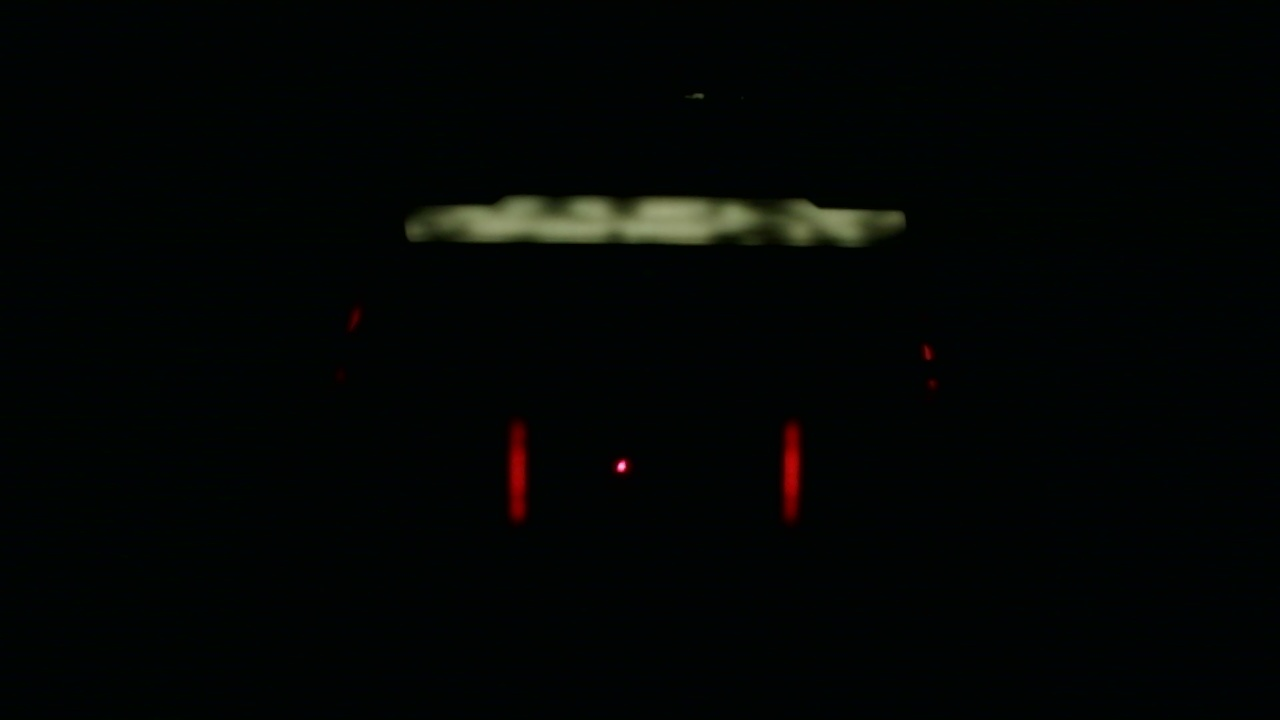lamp: (505, 416, 529, 519), (784, 414, 802, 516)
pair1: (507, 417, 803, 516)
